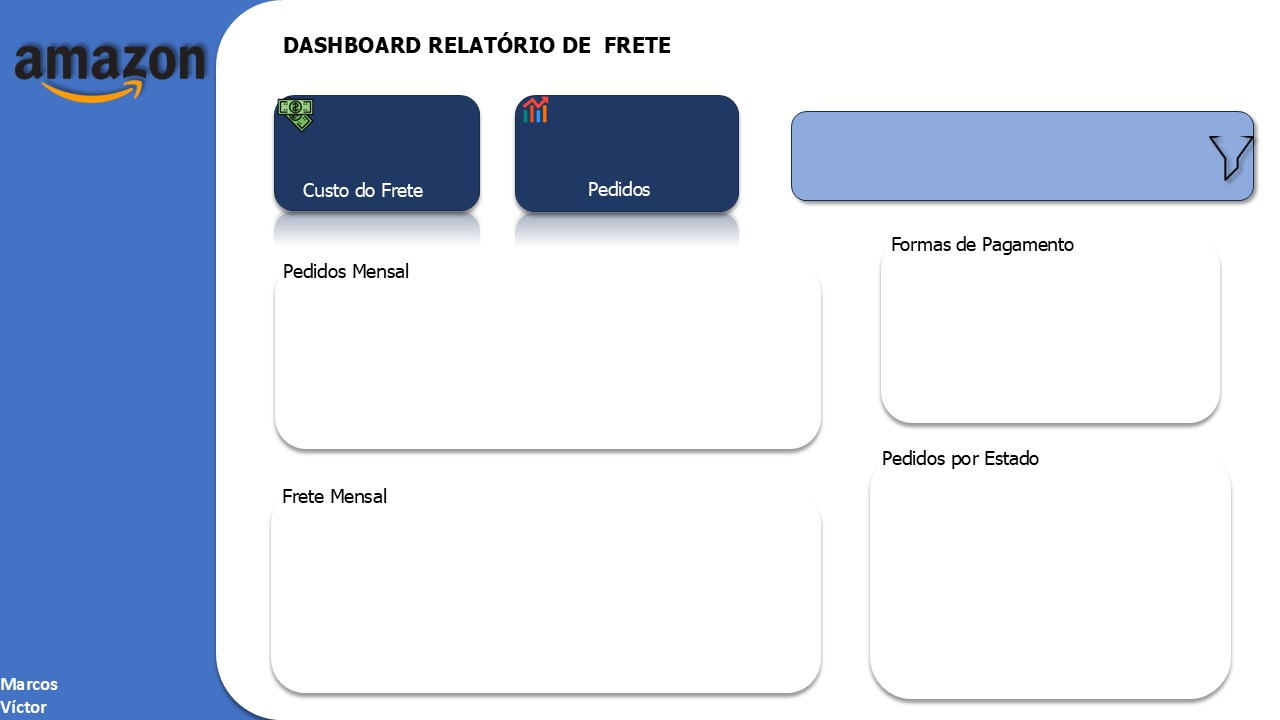

This screenshot's page, from the dashboard's own definition file:
{"tool":"powerbi","page":{"name":"Página 1","canvas":[1280,720],"ordinal":0},"visuals":[{"type":"card","title":"Custo do Frete","fields":{"Values":["Sum(ajustes.FRETE_CUSTO)"]},"box":[295.4,94.4,168.3,92],"z":0},{"type":"card","title":"Pedidos","fields":{"Values":["CountNonNull(ajustes.DATA_COMPRA)"]},"box":[525.4,94.4,187.6,94.4],"z":1000},{"type":"barChart","title":"Pedidos por Estado","fields":{"Category":["ajustes.ESTADO_BR"],"Y":["CountNonNull(ajustes.DATA_COMPRA)"]},"box":[855.8,460,394.6,243.3],"z":2000},{"type":"pieChart","title":"Formas de Pagamento","fields":{"Category":["ajustes.FORMA_PAGAMENTO"],"Y":["Sum(ajustes.FRETE_CUSTO)"]},"box":[880,249.4,353.5,176.7],"z":3000},{"type":"stackedAreaChart","title":"Frete Mensal","fields":{"Y":["Sum(ajustes.FRETE_CUSTO)"],"Category":["ajustes.DATA_DESPACHO.Variation.Hierarquia de datas.Mês"]},"box":[261.5,518.1,573.8,170.7],"z":4000},{"type":"clusteredColumnChart","title":"Pedidos Mensal","fields":{"Y":["CountNonNull(ajustes.QUANTIDADE)"],"Category":["ajustes.DATA_DESPACHO.Variation.Hierarquia de datas.Mês"]},"box":[246.9,260.3,596.8,190],"z":5000},{"type":"slicer","title":"UF","fields":{"Values":["ajustes.UF"]},"box":[768.7,122.3,464.8,64.2],"z":6000}]}

Visuals, with their boxes in screenshot pixels (x1, y1, x2, y2), scaled from the page's 1280x720 canvas onto the 1280x720 screenshot:
"Custo do Frete" card: 295,94,464,186
"Pedidos" card: 525,94,713,189
"Pedidos por Estado" barChart: 856,460,1250,703
"Formas de Pagamento" pieChart: 880,249,1234,426
"Frete Mensal" stackedAreaChart: 262,518,835,689
"Pedidos Mensal" clusteredColumnChart: 247,260,844,450
"UF" slicer: 769,122,1234,186
